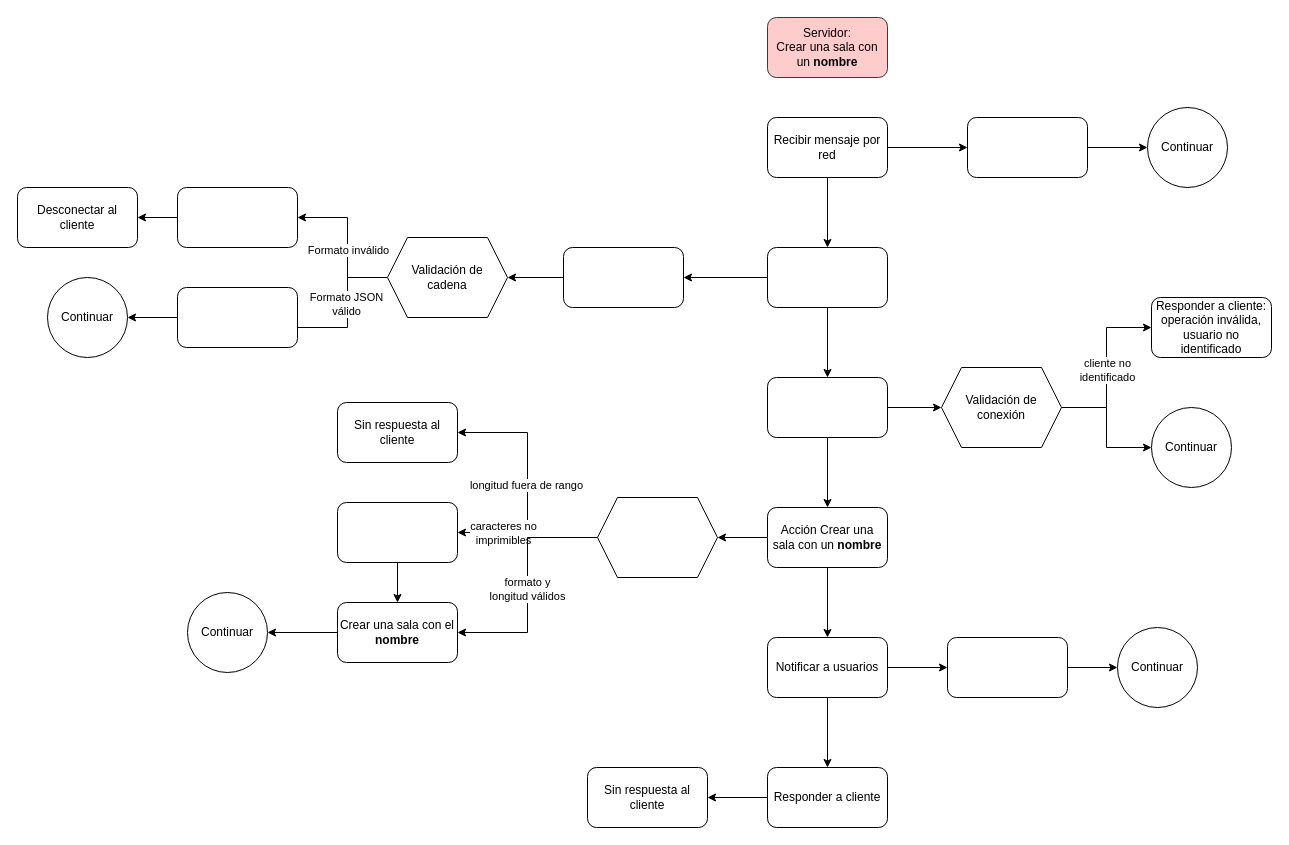
The diagram is 1289 pixels wide and 845 high, and some of its shapes have lost their labels. Here are the shapes that lost their labels. From the top down, the box of each, then its label:
(966, 116, 1088, 178): Extraer bytes del mensaje
(176, 186, 298, 248): Responder a cliente: operación inválida
(562, 246, 684, 308): Traducir bytes a cadena
(766, 246, 888, 308): Traducir mensaje -> acción
(176, 286, 298, 348): Traducir JSON a acción: crear una sala con un nombre
(766, 376, 888, 438): Validar operación
(336, 502, 458, 562): Convertirlos a imprimibles
(596, 496, 718, 578): Validación de nombre
(946, 636, 1068, 698): Sin notificaciones
